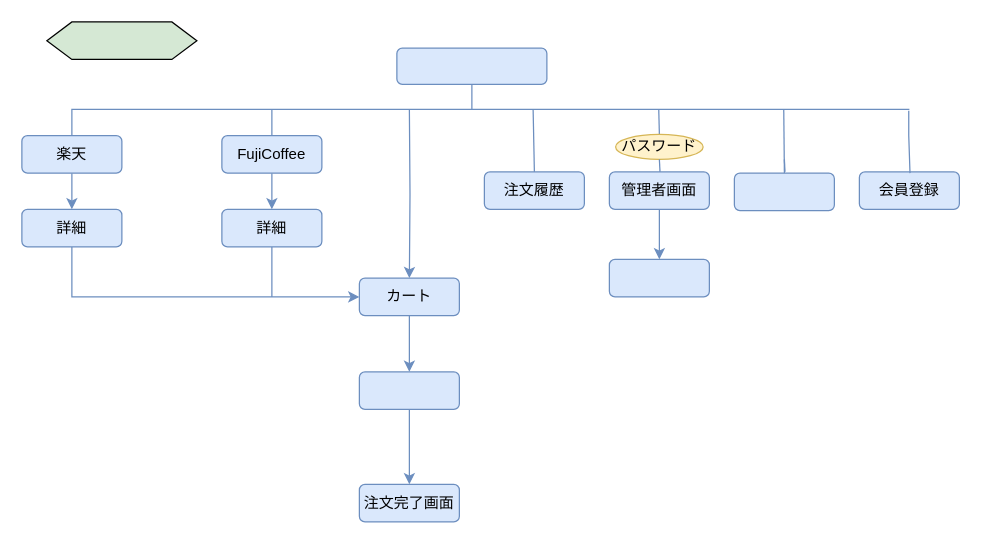
Some shapes in this 981 by 544 pixel diagram are drawn without their labels. The centre of each missing label's shape, as x and y in pixels:
Home: the point at 471,65
お客様情報: the point at 658,277
お届け先情報入力: the point at 408,390
サイトマップ: the point at 121,40
ログイン: the point at 783,191
